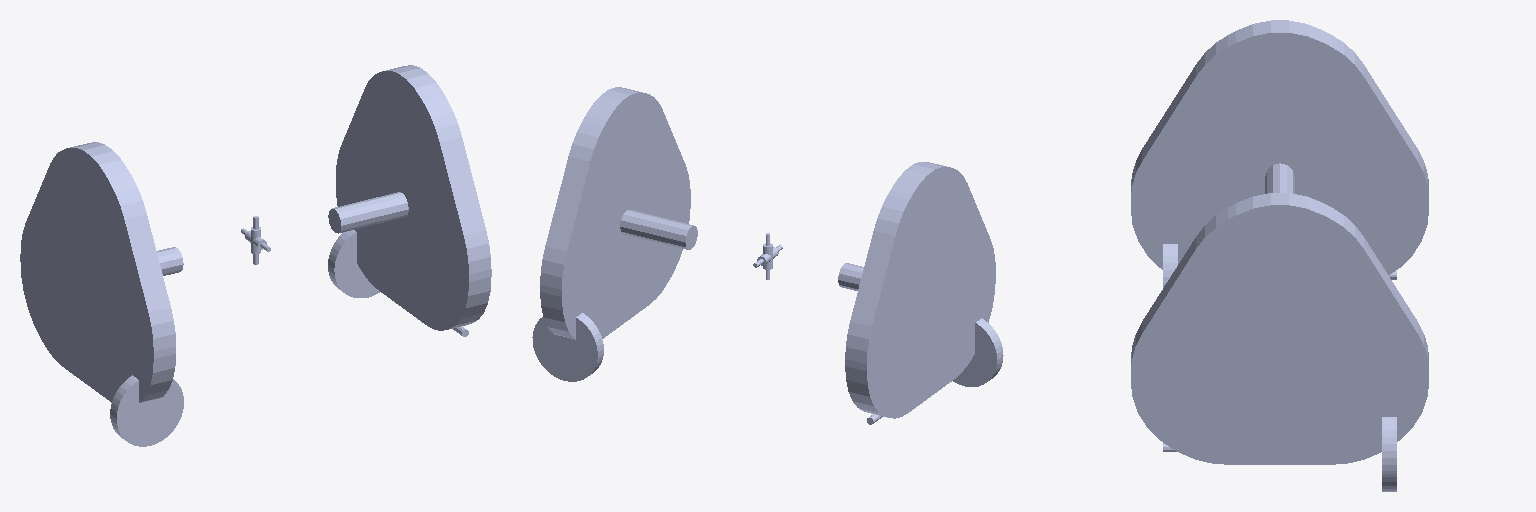
robot.urdf — 3D_ver4:
<?xml version="1.0" encoding="utf-8"?>
<!-- This URDF was automatically created by SolidWorks to URDF Exporter! Originally created by [author] ([email redacted]) 
     Commit Version: 1.6.0-1-g15f4949  Build Version: 1.6.7594.29634
     For more information, please see http://wiki.ros.org/sw_urdf_exporter -->
<robot
  name="3D_ver4">
  <link
    name="base">
    <inertial>
      <origin
        xyz="0.0774370333637908 -0.0148272437982761 0.0107177030271637"
        rpy="0 0 0" />
      <mass
        value="0.0794003271646727" />
      <inertia
        ixx="9.67652814264976E-05"
        ixy="-6.20691764668219E-12"
        ixz="2.46417753297851E-09"
        iyy="5.01282837289758E-05"
        iyz="-6.45218163577924E-11"
        izz="5.01019135277721E-05" />
    </inertial>
    <visual>
      <origin
        xyz="0 0 0"
        rpy="0 0 0" />
      <geometry>
        <mesh
          filename="package://3D_ver4/meshes/base.STL" />
      </geometry>
      <material
        name="">
        <color
          rgba="0.792156862745098 0.819607843137255 0.933333333333333 1" />
      </material>
    </visual>
    <collision>
      <origin
        xyz="0 0 0"
        rpy="0 0 0" />
      <geometry>
        <mesh
          filename="package://3D_ver4/meshes/base.STL" />
      </geometry>
    </collision>
  </link>
  <link
    name="wheel_backright">
    <inertial>
      <origin
        xyz="0 1.32992105255671E-06 -0.0025"
        rpy="0 0 0" />
      <mass
        value="0.00350282067053577" />
      <inertia
        ixx="2.06087238360483E-07"
        ixy="6.61744490042422E-24"
        ixz="-8.97912424278377E-23"
        iyy="2.06082586080934E-07"
        iyz="-5.06359995052621E-24"
        izz="3.97574738314184E-07" />
    </inertial>
    <visual>
      <origin
        xyz="0 0 0"
        rpy="0 0 0" />
      <geometry>
        <mesh
          filename="package://3D_ver4/meshes/wheel_backright.STL" />
      </geometry>
      <material
        name="">
        <color
          rgba="0.792156862745098 0.819607843137255 0.933333333333333 1" />
      </material>
    </visual>
    <collision>
      <origin
        xyz="0 0 0"
        rpy="0 0 0" />
      <geometry>
        <mesh
          filename="package://3D_ver4/meshes/wheel_backright.STL" />
      </geometry>
    </collision>
  </link>
  <joint
    name="wheel1"
    type="continuous">
    <origin
      xyz="0.078031 0.020173 -0.029026"
      rpy="1.5708 0.20072 0" />
    <parent
      link="base" />
    <child
      link="wheel_backright" />
    <axis
      xyz="0 0 1" />
  </joint>
  <link
    name="wheel_backleft">
    <inertial>
      <origin
        xyz="1.38777878078145E-17 1.32992105256885E-06 0.0025"
        rpy="0 0 0" />
      <mass
        value="0.00350282067053577" />
      <inertia
        ixx="2.06087238360483E-07"
        ixy="-3.01585796274245E-26"
        ixz="2.20581496680807E-24"
        iyy="2.06082586080933E-07"
        iyz="2.57679859743604E-27"
        izz="3.97574738314184E-07" />
    </inertial>
    <visual>
      <origin
        xyz="0 0 0"
        rpy="0 0 0" />
      <geometry>
        <mesh
          filename="package://3D_ver4/meshes/wheel_backleft.STL" />
      </geometry>
      <material
        name="">
        <color
          rgba="0.792156862745098 0.819607843137255 0.933333333333333 1" />
      </material>
    </visual>
    <collision>
      <origin
        xyz="0 0 0"
        rpy="0 0 0" />
      <geometry>
        <mesh
          filename="package://3D_ver4/meshes/wheel_backleft.STL" />
      </geometry>
    </collision>
  </link>
  <joint
    name="wheel2"
    type="continuous">
    <origin
      xyz="0.078031 -0.049827 -0.029026"
      rpy="1.5708 0 0" />
    <parent
      link="base" />
    <child
      link="wheel_backleft" />
    <axis
      xyz="0 0 1" />
  </joint>
  <link
    name="slide_back">
    <inertial>
      <origin
        xyz="1.73472347597681E-18 -0.0511300493614309 0"
        rpy="0 0 0" />
      <mass
        value="0.00279336263712055" />
      <inertia
        ixx="3.49420107139763E-07"
        ixy="-1.40169368654197E-24"
        ixz="-1.08380297120834E-24"
        iyy="3.99316347503689E-08"
        iyz="8.18467475065897E-25"
        izz="3.47148573143988E-07" />
    </inertial>
    <visual>
      <origin
        xyz="0 0 0"
        rpy="0 0 0" />
      <geometry>
        <mesh
          filename="package://3D_ver4/meshes/slide_back.STL" />
      </geometry>
      <material
        name="">
        <color
          rgba="0.792156862745098 0.819607843137255 0.933333333333333 1" />
      </material>
    </visual>
    <collision>
      <origin
        xyz="0 0 0"
        rpy="0 0 0" />
      <geometry>
        <mesh
          filename="package://3D_ver4/meshes/slide_back.STL" />
      </geometry>
    </collision>
  </link>
  <joint
    name="slide1"
    type="prismatic">
    <origin
      xyz="0.076031 -0.014827 0.01077"
      rpy="3.1416 0 1.5708" />
    <parent
      link="base" />
    <child
      link="slide_back" />
    <axis
      xyz="0 -1 0" />
    <limit
      lower="-0.05"
      upper="0.05"
      effort="0"
      velocity="0" />
  </joint>
  <link
    name="universal_pin">
    <inertial>
      <origin
        xyz="1.73472347597681E-18 1.92840416031459E-09 1.92840416204931E-09"
        rpy="0 0 0" />
      <mass
        value="0.000271492148155946" />
      <inertia
        ixx="5.93557661395574E-09"
        ixy="4.47220671611109E-15"
        ixz="-4.47220671610245E-15"
        iyy="3.20070578284845E-09"
        iyz="1.00973907918332E-21"
        izz="3.20070578284845E-09" />
    </inertial>
    <visual>
      <origin
        xyz="0 0 0"
        rpy="0 0 0" />
      <geometry>
        <mesh
          filename="package://3D_ver4/meshes/universal_pin.STL" />
      </geometry>
      <material
        name="">
        <color
          rgba="0.792156862745098 0.819607843137255 0.933333333333333 1" />
      </material>
    </visual>
    <collision>
      <origin
        xyz="0 0 0"
        rpy="0 0 0" />
      <geometry>
        <mesh
          filename="package://3D_ver4/meshes/universal_pin.STL" />
      </geometry>
    </collision>
  </link>
  <joint
    name="yaw"
    type="revolute">
    <origin
      xyz="0 -0.068 0"
      rpy="-1.5708 0 1.5708" />
    <parent
      link="slide_back" />
    <child
      link="universal_pin" />
    <axis
      xyz="0 -1 0" />
    <limit
      lower="-1.5708"
      upper="1.5708"
      effort="0"
      velocity="0" />
  </joint>
  <link
    name="slide_front">
    <inertial>
      <origin
        xyz="-1.73472347597681E-18 -0.0511300493614309 0"
        rpy="0 0 0" />
      <mass
        value="0.00279336263712055" />
      <inertia
        ixx="3.47148573143988E-07"
        ixy="8.56130658029301E-24"
        ixz="-3.49678851572781E-25"
        iyy="3.99316347503688E-08"
        iyz="-1.1922594637819E-23"
        izz="3.49420107139763E-07" />
    </inertial>
    <visual>
      <origin
        xyz="0 0 0"
        rpy="0 0 0" />
      <geometry>
        <mesh
          filename="package://3D_ver4/meshes/slide_front.STL" />
      </geometry>
      <material
        name="">
        <color
          rgba="0.792156862745098 0.819607843137255 0.933333333333333 1" />
      </material>
    </visual>
    <collision>
      <origin
        xyz="0 0 0"
        rpy="0 0 0" />
      <geometry>
        <mesh
          filename="package://3D_ver4/meshes/slide_front.STL" />
      </geometry>
    </collision>
  </link>
  <joint
    name="pitch"
    type="revolute">
    <origin
      xyz="-0.068 0 0"
      rpy="1.5708 -1.5708 0" />
    <parent
      link="universal_pin" />
    <child
      link="slide_front" />
    <axis
      xyz="0 0 -1" />
    <limit
      lower="0"
      upper="0"
      effort="0"
      velocity="0" />
  </joint>
  <link
    name="head">
    <inertial>
      <origin
        xyz="-2.36024512798722E-08 -0.00140649770513428 -5.25015313334876E-05"
        rpy="0 0 0" />
      <mass
        value="0.0794003271646726" />
      <inertia
        ixx="5.01282837289755E-05"
        ixy="5.0032368195651E-12"
        ixz="-6.45217527720664E-11"
        iyy="9.67652814264978E-05"
        iyz="-2.46417753456184E-09"
        izz="5.0101913527772E-05" />
    </inertial>
    <visual>
      <origin
        xyz="0 0 0"
        rpy="0 0 0" />
      <geometry>
        <mesh
          filename="package://3D_ver4/meshes/head.STL" />
      </geometry>
      <material
        name="">
        <color
          rgba="0.792156862745098 0.819607843137255 0.933333333333333 1" />
      </material>
    </visual>
    <collision>
      <origin
        xyz="0 0 0"
        rpy="0 0 0" />
      <geometry>
        <mesh
          filename="package://3D_ver4/meshes/head.STL" />
      </geometry>
    </collision>
  </link>
  <joint
    name="slide2"
    type="prismatic">
    <origin
      xyz="0 0 0"
      rpy="3.1416 0 0" />
    <parent
      link="slide_front" />
    <child
      link="head" />
    <axis
      xyz="0 1 0" />
    <limit
      lower="-0.05"
      upper="0.05"
      effort="0"
      velocity="0" />
  </joint>
  <link
    name="wheel_frontright">
    <inertial>
      <origin
        xyz="0 1.32992105256538E-06 -0.0025"
        rpy="0 0 0" />
      <mass
        value="0.00350282067053577" />
      <inertia
        ixx="2.06087238360483E-07"
        ixy="-4.18535380566756E-25"
        ixz="-3.48012588067524E-26"
        iyy="2.06082586080934E-07"
        iyz="3.58767719199359E-27"
        izz="3.97574738314184E-07" />
    </inertial>
    <visual>
      <origin
        xyz="0 0 0"
        rpy="0 0 0" />
      <geometry>
        <mesh
          filename="package://3D_ver4/meshes/wheel_frontright.STL" />
      </geometry>
      <material
        name="">
        <color
          rgba="0.792156862745098 0.819607843137255 0.933333333333333 1" />
      </material>
    </visual>
    <collision>
      <origin
        xyz="0 0 0"
        rpy="0 0 0" />
      <geometry>
        <mesh
          filename="package://3D_ver4/meshes/wheel_frontright.STL" />
      </geometry>
    </collision>
  </link>
  <joint
    name="wheel3"
    type="continuous">
    <origin
      xyz="-0.0349999999483808 -0.00200000090333485 -0.0397964607176203"
      rpy="1.5707963267949 0 1.57079635260447" />
    <parent
      link="head" />
    <child
      link="wheel_frontright" />
    <axis
      xyz="0 0 1" />
  </joint>
  <link
    name="wheel_frontleft">
    <inertial>
      <origin
        xyz="0 1.32992105256191E-06 0.0025"
        rpy="0 0 0" />
      <mass
        value="0.00350282067053577" />
      <inertia
        ixx="2.06087238360483E-07"
        ixy="-4.18409322258589E-25"
        ixz="2.15409644911464E-24"
        iyy="2.06082586080933E-07"
        iyz="7.92033490459063E-27"
        izz="3.97574738314184E-07" />
    </inertial>
    <visual>
      <origin
        xyz="0 0 0"
        rpy="0 0 0" />
      <geometry>
        <mesh
          filename="package://3D_ver4/meshes/wheel_frontleft.STL" />
      </geometry>
      <material
        name="">
        <color
          rgba="0.792156862745098 0.819607843137255 0.933333333333333 1" />
      </material>
    </visual>
    <collision>
      <origin
        xyz="0 0 0"
        rpy="0 0 0" />
      <geometry>
        <mesh
          filename="package://3D_ver4/meshes/wheel_frontleft.STL" />
      </geometry>
    </collision>
  </link>
  <joint
    name="wheel4"
    type="continuous">
    <origin
      xyz="0.0350000000516191 -0.001999999096665 -0.0397964607176203"
      rpy="1.5707963267949 0 1.57079635260447" />
    <parent
      link="head" />
    <child
      link="wheel_frontleft" />
    <axis
      xyz="0 0 1" />
  </joint>
</robot>

--- What the picture shows (computed from the rendered views, not written in the file) ---
The picture shows the robot from 3 angles, left to right: view 1: azimuth 30°, elevation 25°; view 2: azimuth 150°, elevation 25°; view 3: azimuth 270°, elevation 25°; orthographic projection.
Model 3D_ver4 with 9 links and 8 joints (2 revolute, 4 continuous, 2 prismatic), rooted at base, posed all joints at 0.
Visible links, largest first — view 1: base, head, wheel_frontleft, wheel_backright, universal_pin; view 2: head, base, wheel_backright, wheel_frontleft; view 3: base, head, wheel_backright.
Link boxes in pixels (x1=…): base: x1=328, y1=65, x2=491, y2=336; head: x1=20, y1=142, x2=183, y2=413; wheel_frontleft: x1=110, y1=375, x2=183, y2=446; wheel_backright: x1=328, y1=230, x2=379, y2=297; universal_pin: x1=241, y1=216, x2=270, y2=264; head: x1=838, y1=162, x2=995, y2=424; base: x1=540, y1=87, x2=697, y2=349; wheel_backright: x1=532, y1=313, x2=603, y2=381; wheel_frontleft: x1=953, y1=318, x2=1003, y2=386; base: x1=1131, y1=193, x2=1428, y2=464; head: x1=1131, y1=20, x2=1428, y2=279; wheel_backright: x1=1382, y1=417, x2=1396, y2=491.
Size in the robot's own frame: 0.17 by 0.1025 by 0.1092 metres.
5 mesh visuals loaded from 9 distinct referenced files (5 binary STL); not drawn: 4 (reference not matched to a file when rendering).